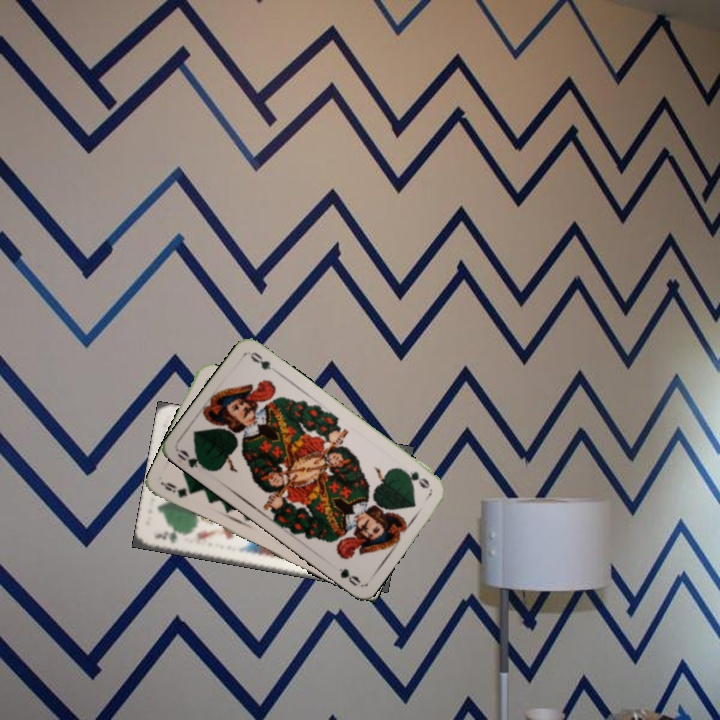G9: (159, 479, 190, 501)
GK: (150, 528, 180, 546)
GO: (176, 446, 211, 473), (397, 465, 432, 491)
